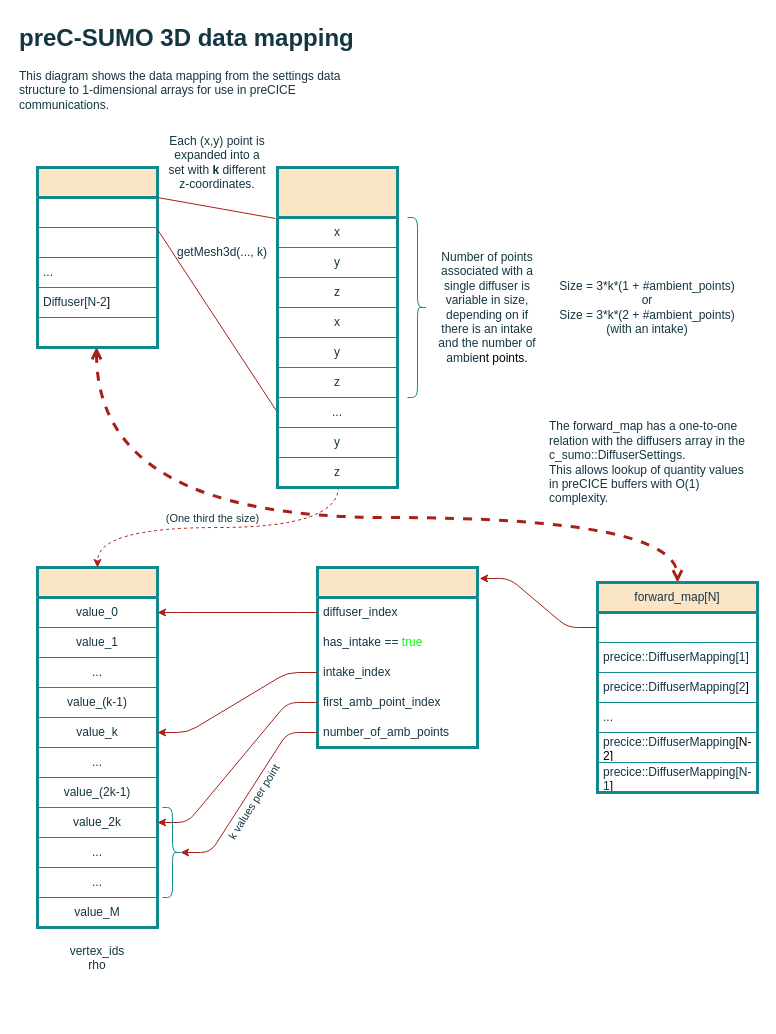
Some shapes in this 776 by 1034 pixel diagram are drawn without their labels. The box of each missing label's shape, as (x1, y1, x2, y2) in pixels:
Coordinates (for preCICE mesh): (276, 166, 398, 488)
Diffuser Settings: (36, 166, 158, 348)
Diffuser[0]: (36, 196, 158, 228)
Diffuser[1]: (36, 226, 158, 258)
Diffuser[N-1 ]: (36, 316, 158, 348)
preCICE data buffer: (36, 566, 158, 928)
precice::DiffuserMapping: (316, 566, 478, 748)
precice::DiffuserMapping[0]: (596, 612, 758, 642)
